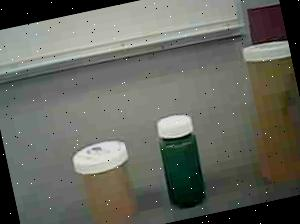Bottle A: (230, 29, 300, 191)
Bottle B: (66, 131, 151, 224)
Bottle C: (150, 108, 214, 216)
